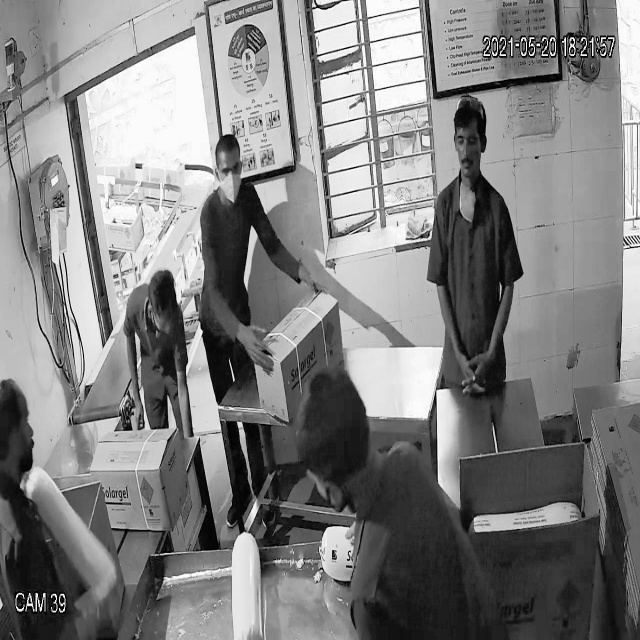Sin_gafas: (446, 124, 489, 156), (211, 158, 246, 183)
